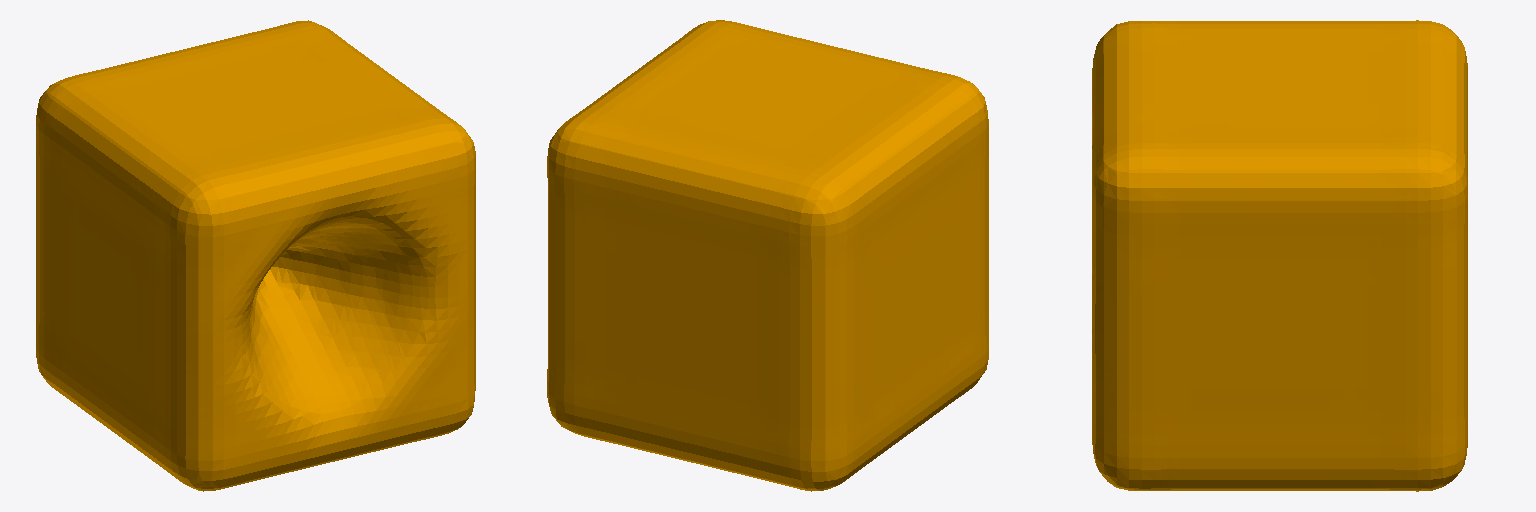
The robot description file, URDF, robot "K02_0":
<?xml version="1.0"?>
<robot name="K02_0">
  <link name="base_link">
    <inertial>
      <mass value="0.09233" />
      <origin xyz="0 0 0" />
      <inertia  ixx="0.0002" ixy="0.0"  ixz="0.0"  iyy="0.0002"  iyz="0.0" izz="0.0002" />
    </inertial>
    <visual>
      <geometry>
        <mesh filename="../../../meshes/egad/train/K02_0.obj" />
      </geometry>
    </visual>
    <collision>
      <geometry>
        <mesh filename="../../../meshes/egad/train/K02_0.obj" />
      </geometry>
    </collision>
  </link>
</robot>

--- Facts derived from the render (not from the file) ---
The picture shows the robot from 3 angles, left to right: view 1: azimuth 30°, elevation 25°; view 2: azimuth 150°, elevation 25°; view 3: azimuth 270°, elevation 25°; orthographic projection.
Robot: K02_0 — 1 links, 0 joints (none); root link base_link; default pose: all joints at 0.
Visible links, largest first — view 1: base_link; view 2: base_link; view 3: base_link.
Link boxes in pixels (x1=…): base_link: x1=36, y1=20, x2=475, y2=491; base_link: x1=547, y1=20, x2=988, y2=491; base_link: x1=1092, y1=20, x2=1467, y2=491.
Bounding box of the posed robot: 0.06 × 0.06 × 0.06 m (x, y, z).
1 mesh visuals loaded from 1 distinct referenced files (1 OBJ).